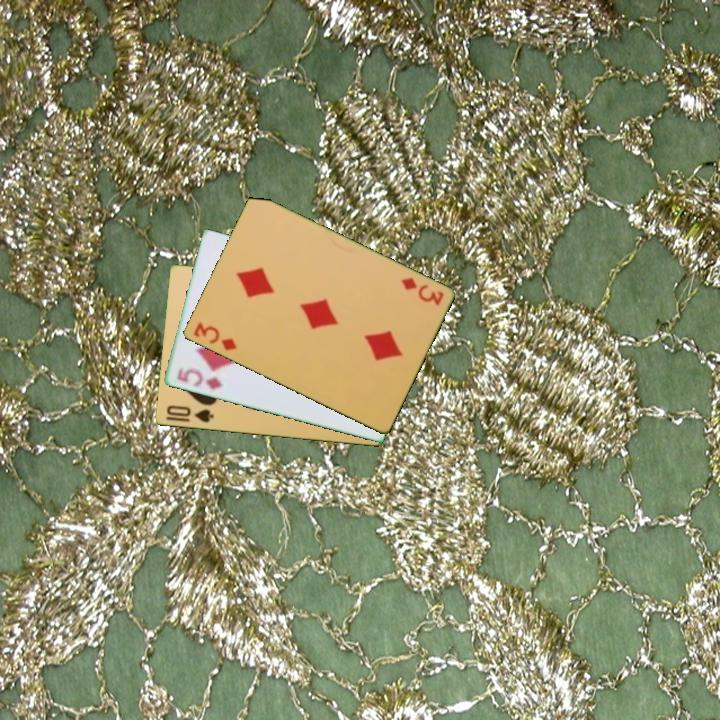10s: (163, 402, 216, 426)
3d: (189, 319, 239, 354), (397, 274, 446, 309)
5d: (173, 364, 226, 393)
